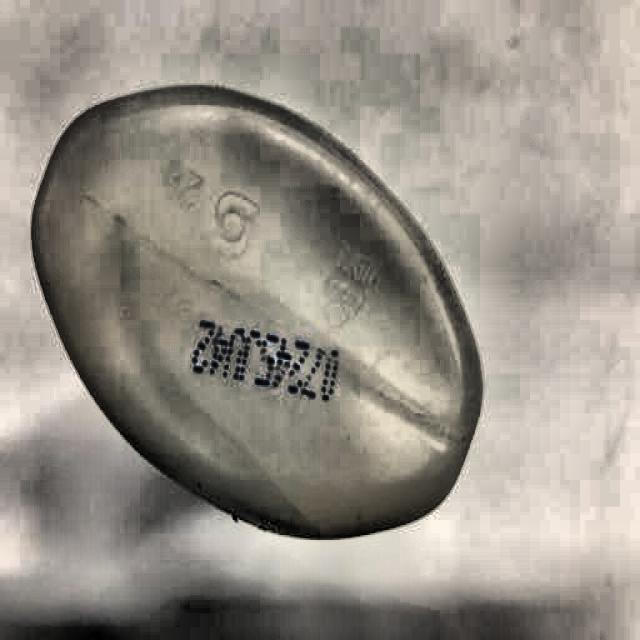plastic: (26, 82, 486, 539)
